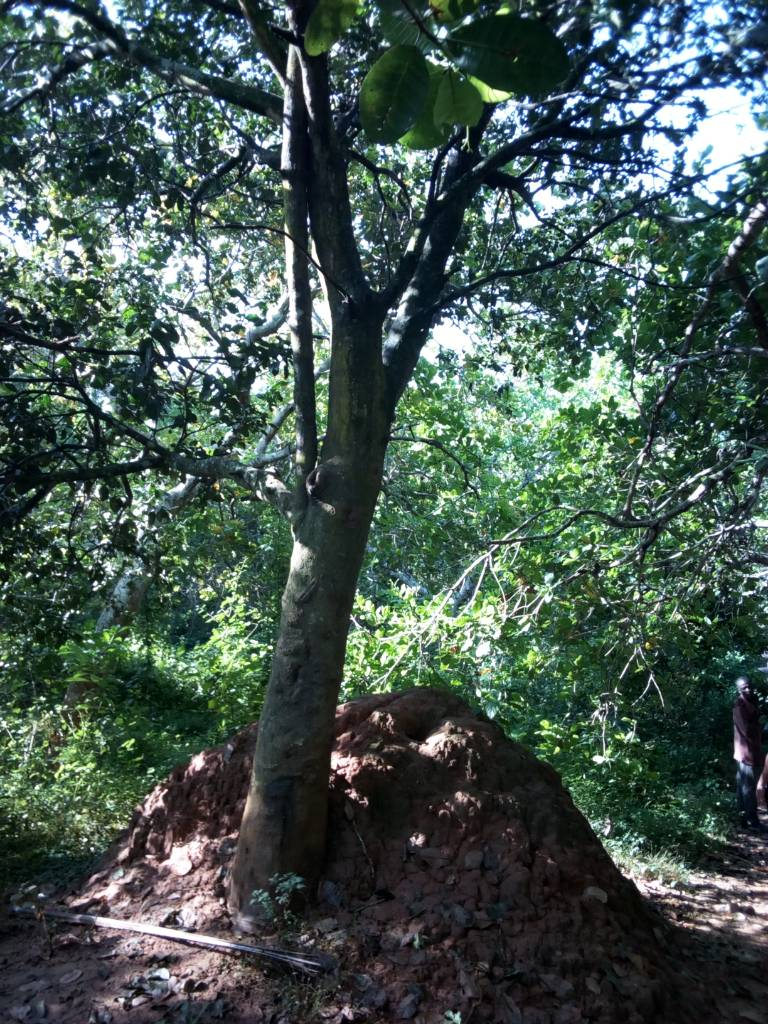Termites: (352, 685, 599, 922)
